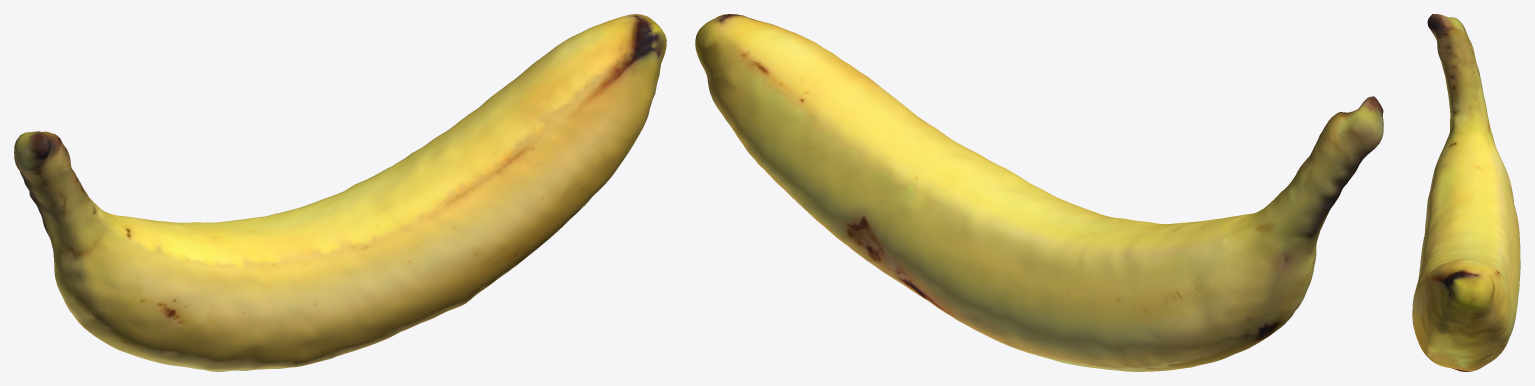
Rendered from banana2.obj.
3 renders of one model, left to right at view 1: azimuth 30°, elevation 25°; view 2: azimuth 150°, elevation 25°; view 3: azimuth 270°, elevation 25°, orthographic. The views are drawn at different scales.
Size of the model in its own units: 203 by 91.58 by 39.38.
Materials: 1 (1 with a texture image).
